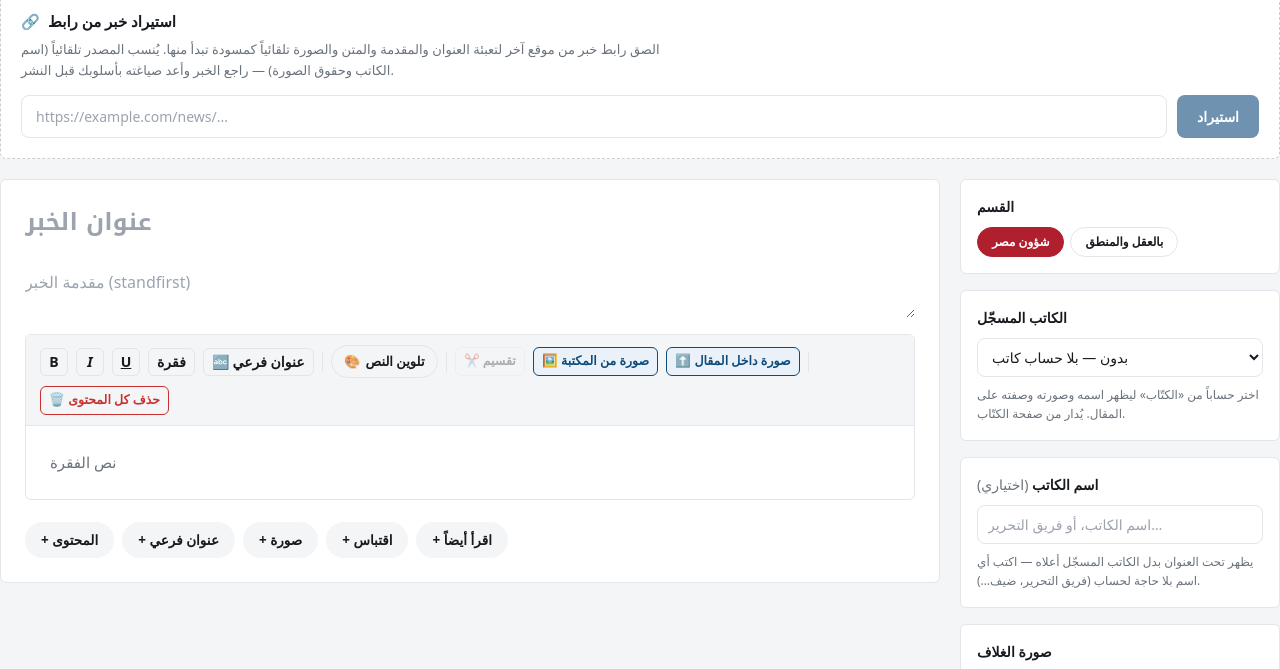
Scenario: ArticleEditorForm — linking a registered author › replaces the cover field for an opinion piece by a photographed author
Click the button "بالعقل والمنطق". click: (1124, 242)
box: 1070,227 -> 1178,257
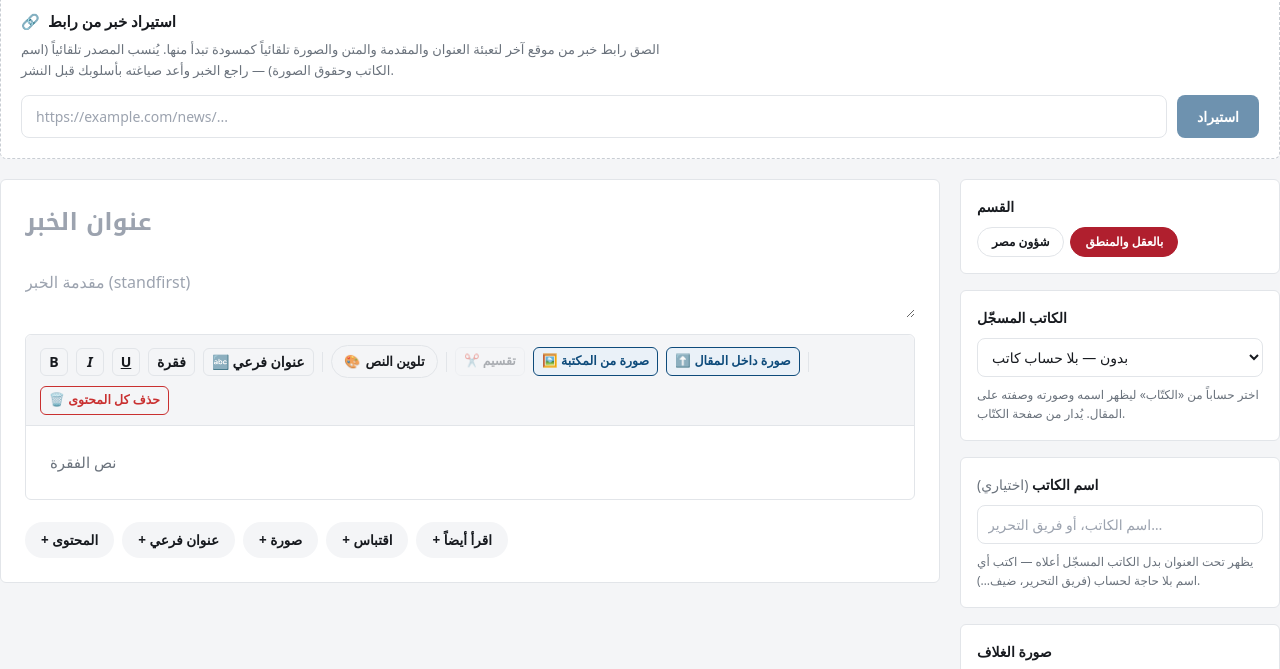
Select "ماهر فرغلي — كاتب سياسي" in the dropdown named "الكاتب المسجّل". click: (1120, 357)
box: 977,338 -> 1263,377
(page scrolled)
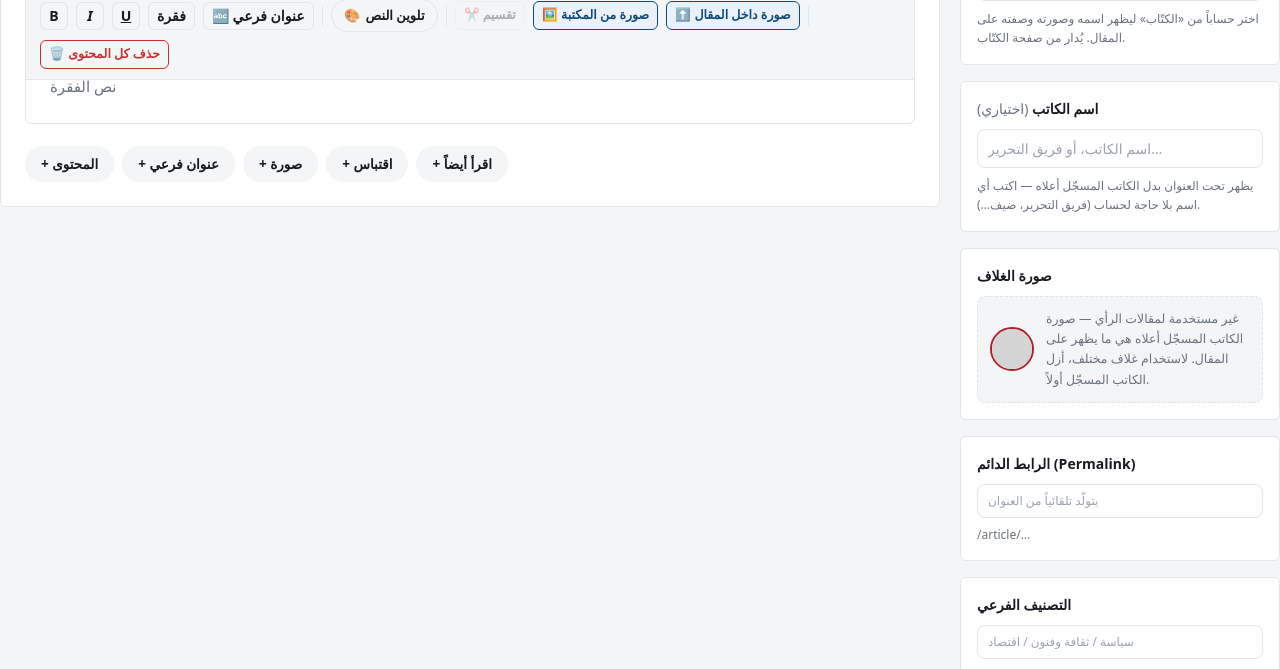
Check: the text "غير مستخدمة لمقالات الرأي" is shown, box 1046,310 -> 1243,388
